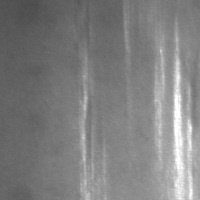scratches: (172, 30, 195, 199), (148, 44, 168, 163), (76, 62, 92, 196)
